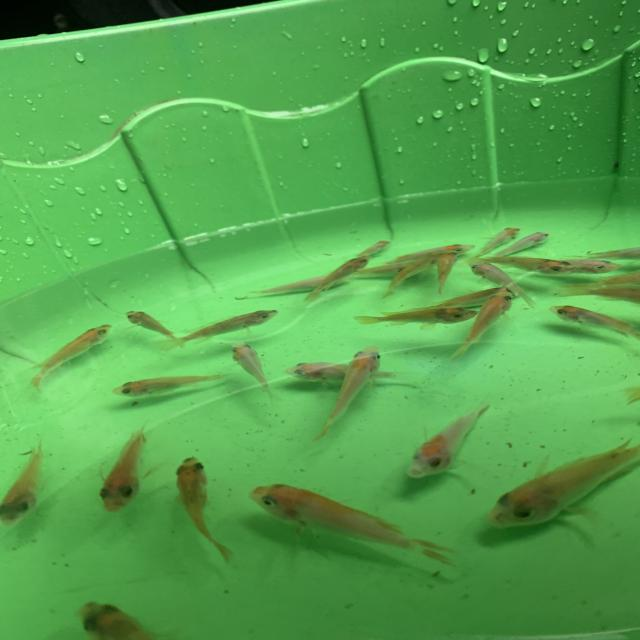nila: (244, 474, 463, 564), (478, 438, 640, 527), (382, 391, 515, 487), (166, 445, 233, 576), (0, 424, 60, 551), (92, 417, 164, 522), (319, 337, 388, 439), (20, 322, 116, 392), (105, 364, 263, 405), (442, 284, 521, 366), (170, 302, 287, 348), (542, 300, 640, 352), (394, 280, 510, 322), (222, 331, 290, 401), (280, 355, 423, 387), (464, 251, 542, 305), (73, 594, 157, 640), (236, 270, 366, 298), (469, 244, 578, 277), (124, 306, 194, 357), (313, 253, 373, 298), (346, 308, 474, 329), (374, 254, 429, 298), (383, 238, 478, 262), (490, 224, 557, 255), (471, 221, 524, 256), (541, 250, 628, 271), (341, 261, 441, 278), (564, 282, 640, 302), (353, 232, 398, 260), (434, 249, 459, 291)
